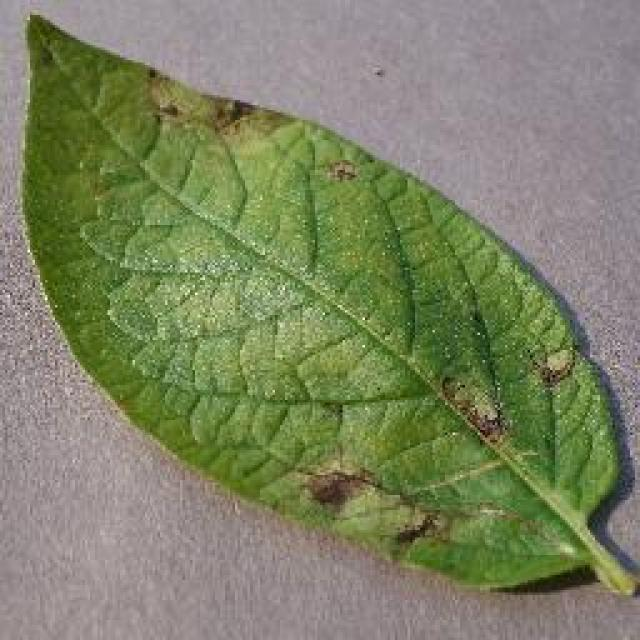late_blight: (12, 8, 638, 600)
